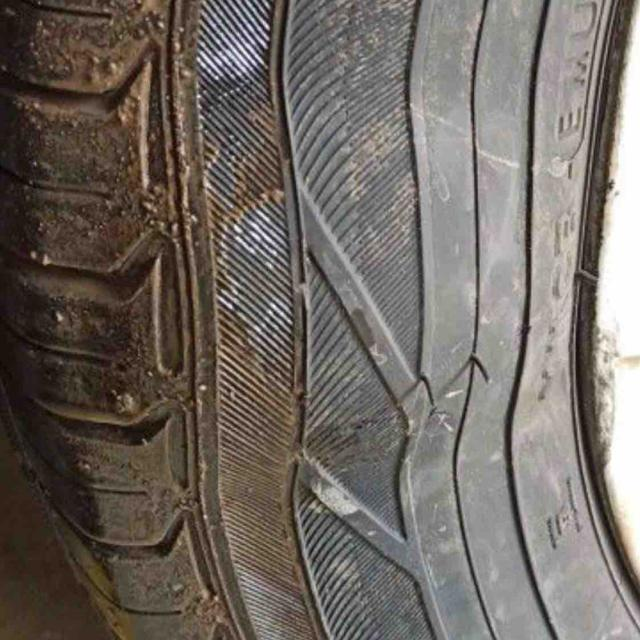Bulge: (187, 122, 549, 474)
